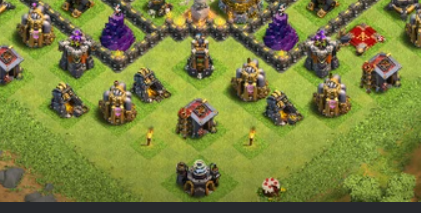elixir_colector: (306, 73, 357, 127), (14, 3, 57, 55), (95, 79, 137, 129), (230, 58, 271, 107)
gold_mine: (40, 76, 91, 132), (261, 88, 305, 133), (130, 66, 173, 109)
